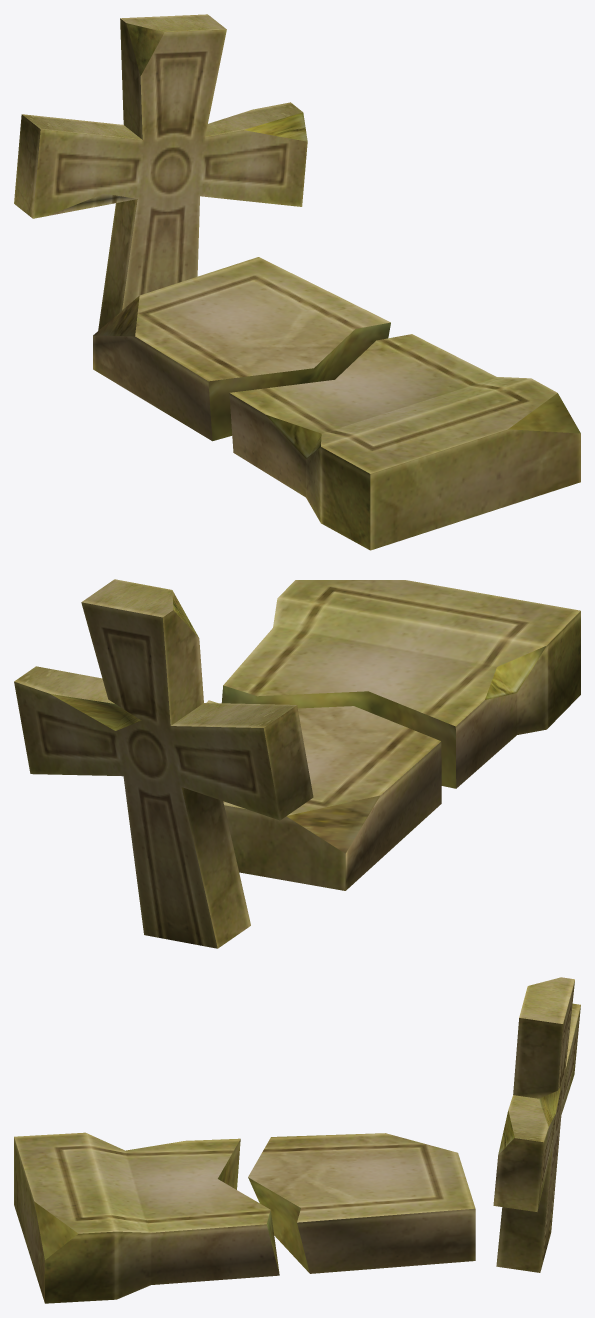
The model's file is a_SWCtomb07.glb.
3 renders of one model, top to bottom at view 1: azimuth 30°, elevation 25°; view 2: azimuth 150°, elevation 25°; view 3: azimuth 270°, elevation 25°, orthographic. The views are drawn at different scales.
Visible parts, largest first — view 1: a_SWCtomb07; view 2: a_SWCtomb07; view 3: a_SWCtomb07.
Part boxes in pixels (bbox=[...]): a_SWCtomb07: bbox=[14, 14, 580, 550]; a_SWCtomb07: bbox=[14, 579, 580, 948]; a_SWCtomb07: bbox=[14, 977, 580, 1303].
Size of the model in its own units: 1.39 by 1.52 by 2.8.
1 material, 1 textured.
